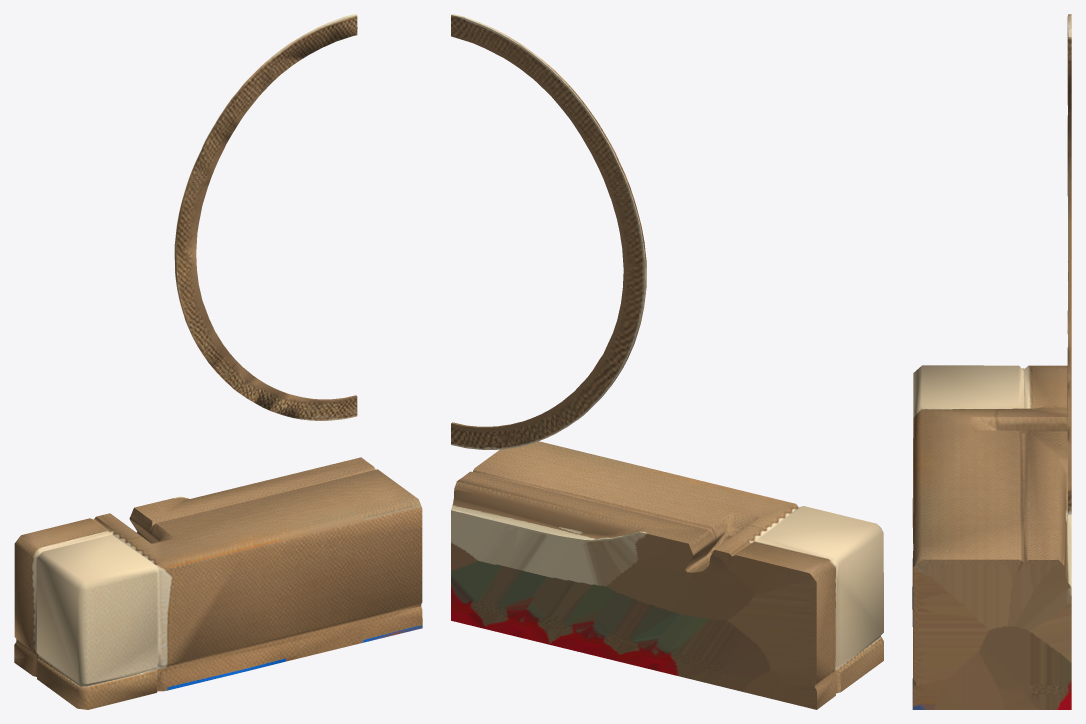
Rendered from 13-topper-front-left.fbx.
3 renders of one model, left to right at view 1: azimuth 30°, elevation 25°; view 2: azimuth 150°, elevation 25°; view 3: azimuth 270°, elevation 25°, orthographic. The views are drawn at different scales.
Parts seen in each view (by area): view 1: topper-front-left; view 2: topper-front-left; view 3: topper-front-left.
Boxes of the visible parts, left/top/right/bottom form: topper-front-left: left=14, top=14, right=422, bottom=709; topper-front-left: left=451, top=14, right=883, bottom=709; topper-front-left: left=912, top=14, right=1071, bottom=709.
Size of the model in its own units: 5043 by 7982 by 1711.
1 material, 1 textured.
